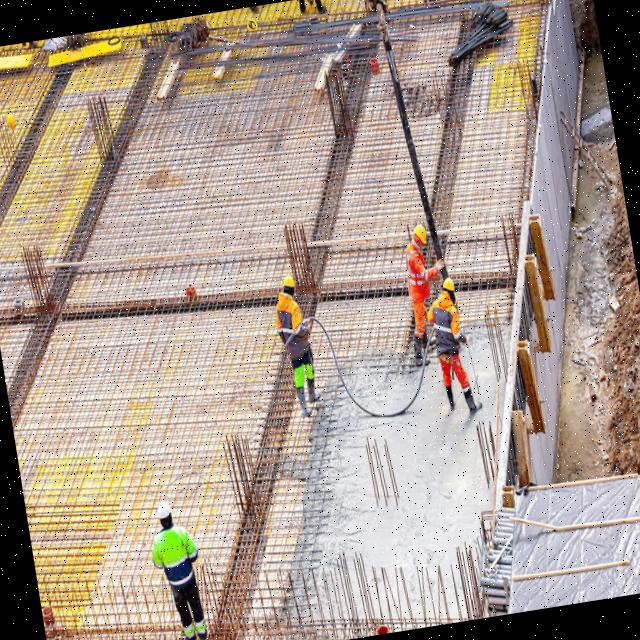Helmet: (156, 502, 175, 527), (415, 225, 430, 248), (283, 277, 297, 292), (443, 278, 456, 293)
Jacket: (159, 526, 194, 590), (431, 295, 465, 358), (273, 296, 304, 354), (405, 244, 431, 303)
